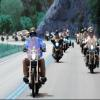motorcycles: (24, 48, 44, 100), (87, 42, 100, 77), (53, 36, 64, 64)
